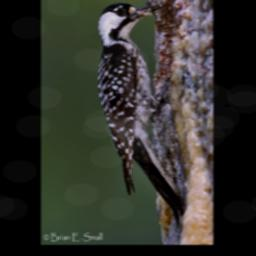Woodpecker: (95, 2, 183, 223)
